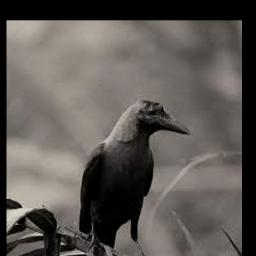Crow: (78, 99, 191, 256)
